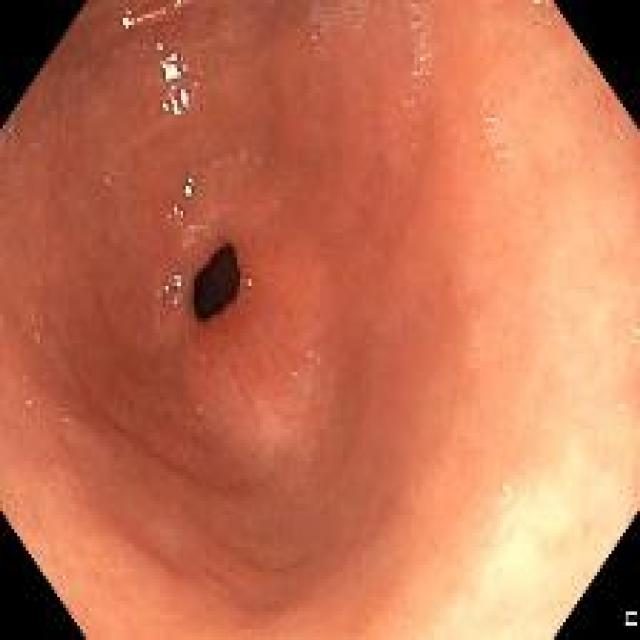bubbles: (406, 17, 428, 49), (410, 50, 430, 79), (161, 275, 182, 294), (241, 276, 254, 301), (494, 147, 512, 164), (308, 23, 324, 42), (4, 125, 16, 149), (399, 96, 418, 109), (155, 2, 168, 20), (408, 1, 424, 15), (481, 113, 495, 128), (168, 293, 182, 308), (355, 18, 367, 33), (346, 5, 360, 17), (501, 481, 512, 495), (171, 206, 183, 217), (408, 81, 421, 91), (171, 0, 182, 11)
contrast: (191, 244, 239, 322)
saturation: (448, 400, 637, 638), (550, 228, 637, 400)
specularity: (159, 56, 181, 82), (159, 91, 180, 113), (183, 174, 194, 199), (178, 89, 190, 108), (155, 40, 166, 52), (121, 17, 131, 30)
